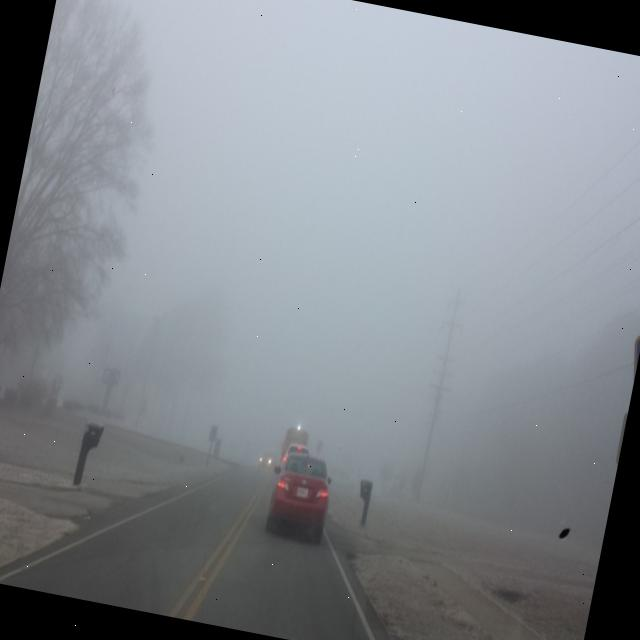bus: (276, 426, 310, 468)
car: (263, 446, 336, 546), (280, 444, 307, 472), (256, 448, 274, 469)
